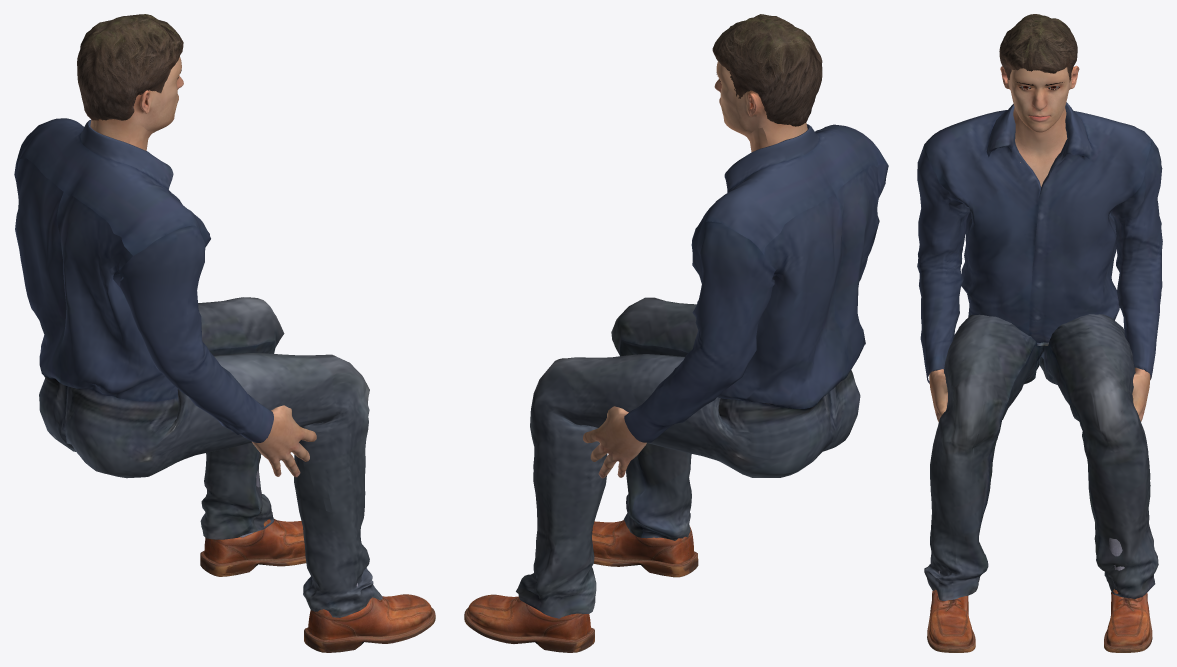
File: talent-male-sitting.glb
3 views of the same model, side by side, from view 1: azimuth 30°, elevation 25°; view 2: azimuth 150°, elevation 25°; view 3: azimuth 270°, elevation 25° (orthographic). The views are drawn at different scales.
Parts seen in each view (by area): view 1: male_casualsuit01, shoes01, short02, body; view 2: male_casualsuit01, shoes01, short02, body; view 3: male_casualsuit01, body, shoes01, short02.
Boxes of the visible parts, left/top/right/bottom form: male_casualsuit01: left=14, top=118, right=382, bottom=617; shoes01: left=200, top=469, right=435, bottom=652; short02: left=77, top=14, right=183, bottom=120; body: left=90, top=57, right=316, bottom=477; male_casualsuit01: left=516, top=124, right=888, bottom=618; shoes01: left=464, top=520, right=698, bottom=652; short02: left=712, top=14, right=822, bottom=126; body: left=583, top=61, right=807, bottom=478; male_casualsuit01: left=917, top=102, right=1162, bottom=600; body: left=929, top=65, right=1150, bottom=422; shoes01: left=927, top=538, right=1152, bottom=652; short02: left=999, top=14, right=1077, bottom=82.
Size of the model in its own units: 0.736 by 1.32 by 0.5506.
Materials: 7 (7 with a texture image).
